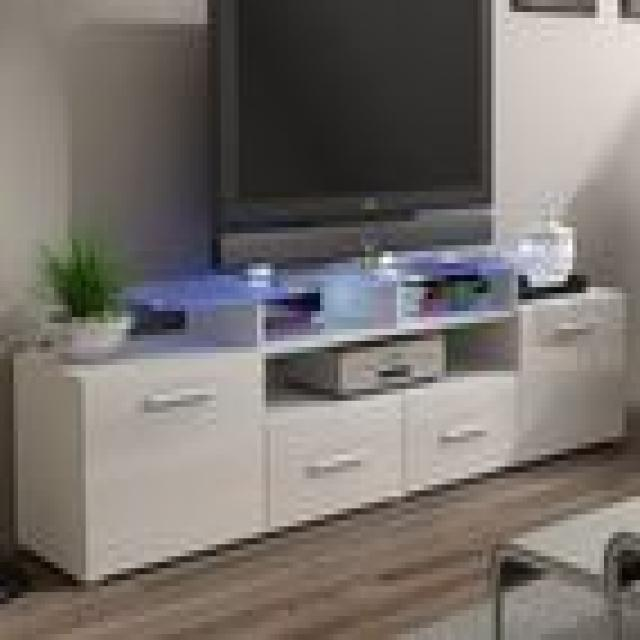others: (180, 6, 514, 275)
